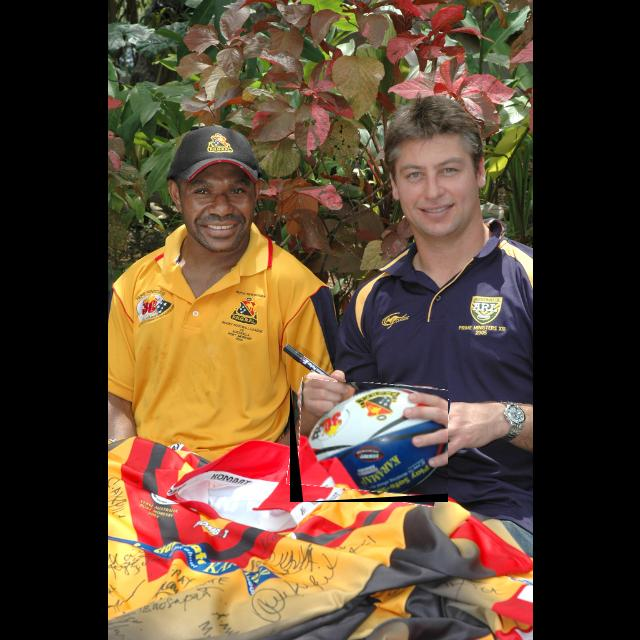Football: (290, 382, 448, 502)
